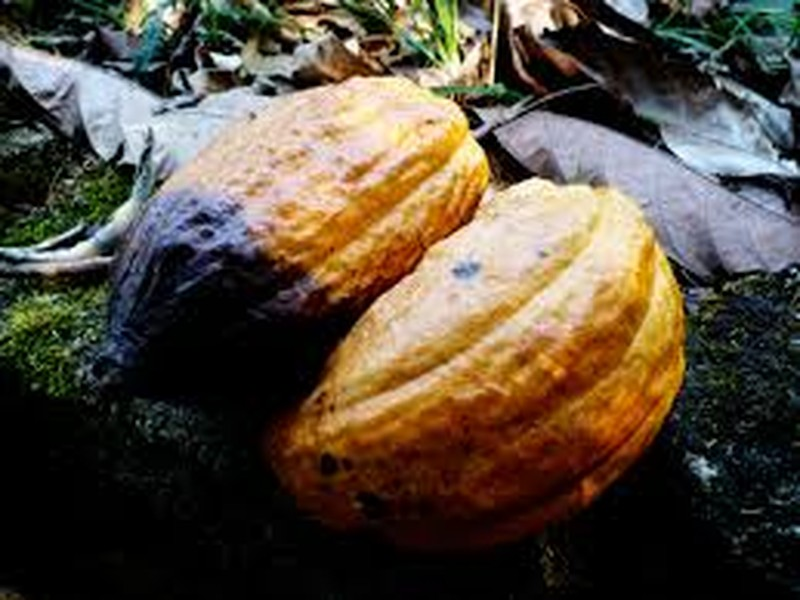Cacaopod: (287, 176, 680, 543)
